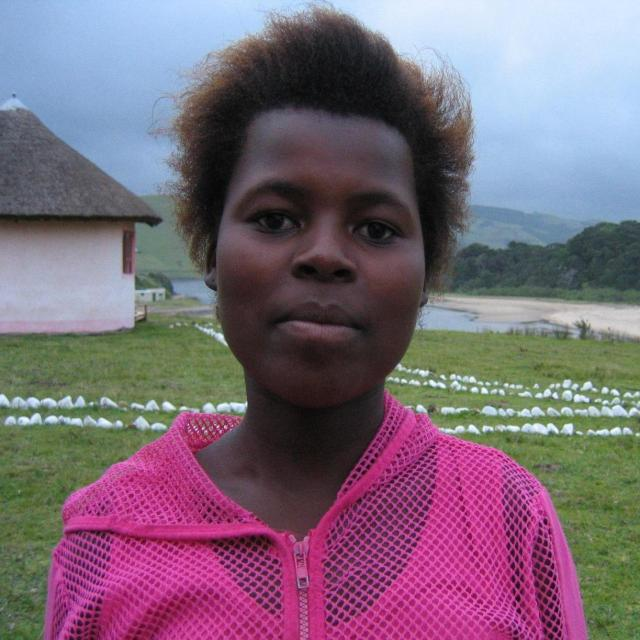no-glass: (240, 208, 409, 244)
